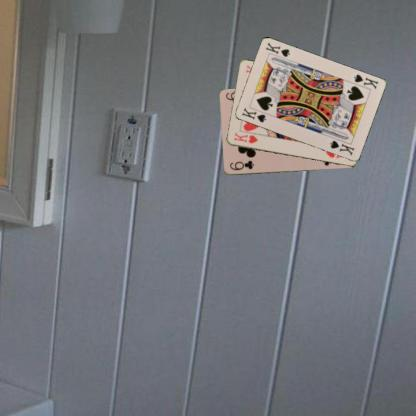6c: (227, 158, 255, 172)
Kh: (231, 130, 259, 144)
Ks: (239, 105, 267, 124), (351, 72, 379, 90)
